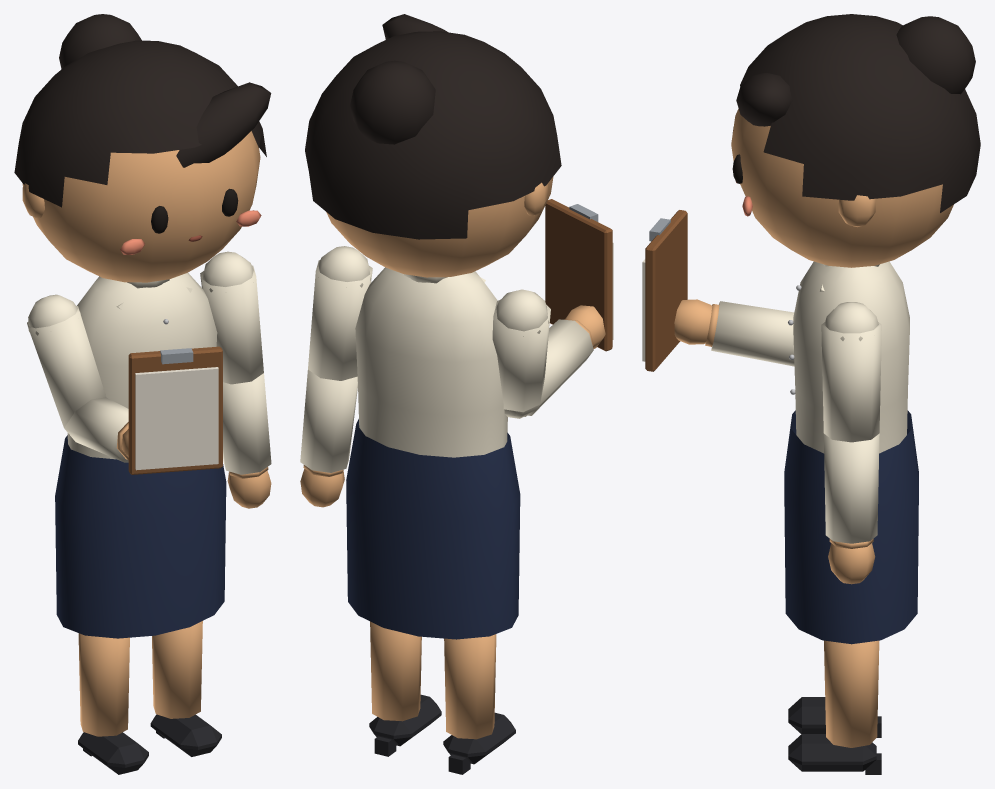
Rendered from era3_office_woman.glb.
3 views of the same model, side by side, from view 1: azimuth 30°, elevation 25°; view 2: azimuth 150°, elevation 25°; view 3: azimuth 270°, elevation 25° (orthographic). The views are drawn at different scales.
Visible parts, largest first — view 1: head, body, prop_clipboard, shin_R, shin_L, arm_R, arm_L, forearm_L, forearm_R; view 2: body, head, prop_clipboard, shin_R, arm_L, shin_L, forearm_L, arm_R, forearm_R; view 3: head, body, shin_L, arm_L, forearm_L, forearm_R, prop_clipboard, shin_R.
Part boxes in pixels (box(x1,y1,x2,y2)): head: box(14, 14, 271, 282); body: box(55, 272, 226, 638); prop_clipboard: box(128, 346, 222, 474); shin_R: box(78, 633, 148, 774); shin_L: box(150, 621, 221, 756); arm_R: box(27, 294, 105, 434); arm_L: box(200, 251, 263, 384); forearm_L: box(223, 373, 271, 508); forearm_R: box(64, 397, 128, 462); body: box(346, 267, 520, 639); head: box(305, 14, 561, 277); prop_clipboard: box(545, 199, 613, 351); shin_R: box(443, 634, 515, 774); arm_L: box(308, 246, 372, 380); shin_L: box(369, 621, 441, 756); forearm_L: box(300, 369, 357, 507); arm_R: box(492, 289, 550, 418); forearm_R: box(505, 305, 605, 416); head: box(731, 14, 980, 267); body: box(784, 261, 918, 644); shin_L: box(788, 640, 881, 774); arm_L: box(821, 302, 881, 442); forearm_L: box(823, 433, 879, 584); forearm_R: box(674, 299, 794, 366); prop_clipboard: box(642, 210, 687, 371); shin_R: box(788, 697, 881, 737).
Bounding box in the file's own units: 0.5281 × 1.48 × 0.6195.
